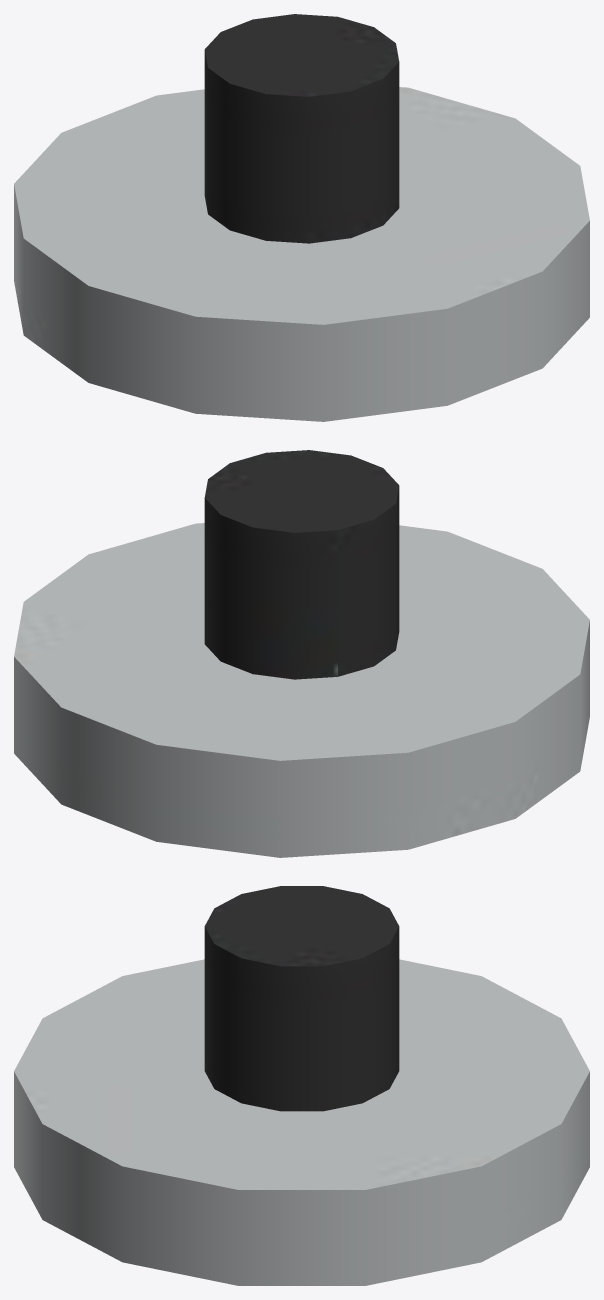
The model's file is tool_lever_pipe_expander_nozzle_02.glb.
3 views of the same model, one above another, from view 1: azimuth 30°, elevation 25°; view 2: azimuth 150°, elevation 25°; view 3: azimuth 270°, elevation 25° (orthographic).
Visible parts, largest first — view 1: tool_lever_pipe_expander_nozzle_02; view 2: tool_lever_pipe_expander_nozzle_02; view 3: tool_lever_pipe_expander_nozzle_02.
Boxes of the visible parts, left/top/right/bottom form: tool_lever_pipe_expander_nozzle_02: left=14, top=14, right=589, bottom=421; tool_lever_pipe_expander_nozzle_02: left=14, top=450, right=589, bottom=857; tool_lever_pipe_expander_nozzle_02: left=14, top=886, right=589, bottom=1285.
Bounding box in the file's own units: 0.0698 × 0.033 × 0.0716.
1 material, 1 textured.
